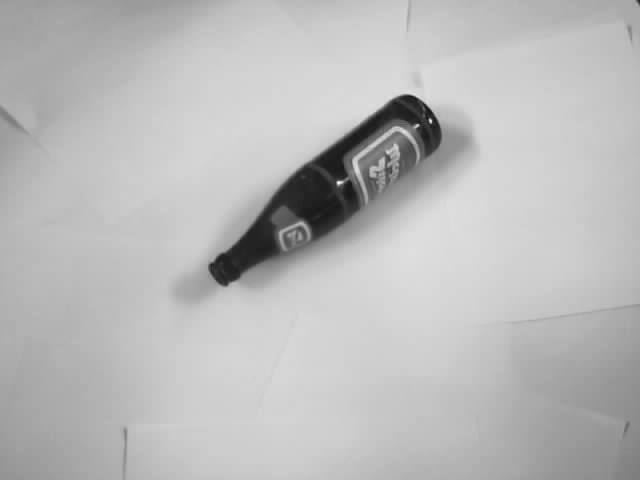Glass: (206, 91, 445, 292)
